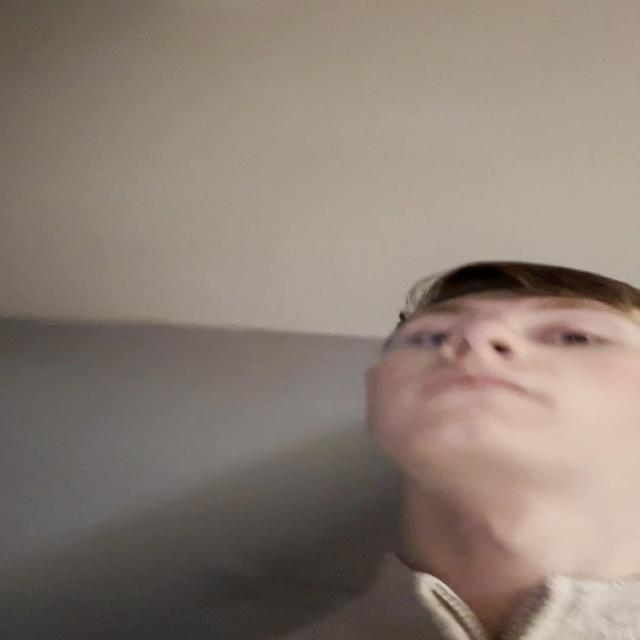no-helmet: (364, 286, 639, 457)
